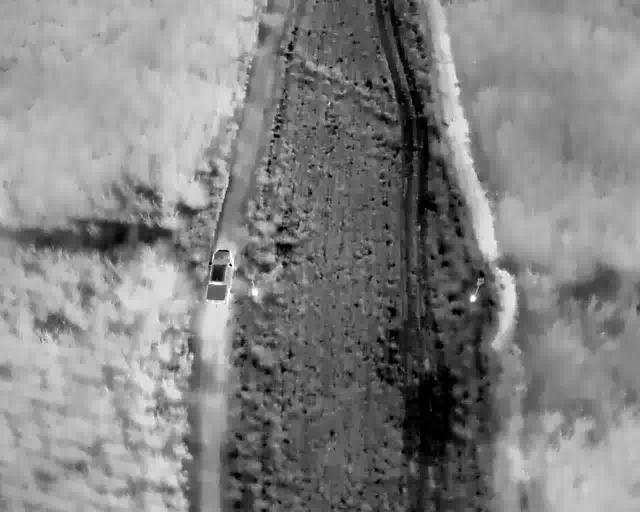car: (204, 249, 233, 304)
